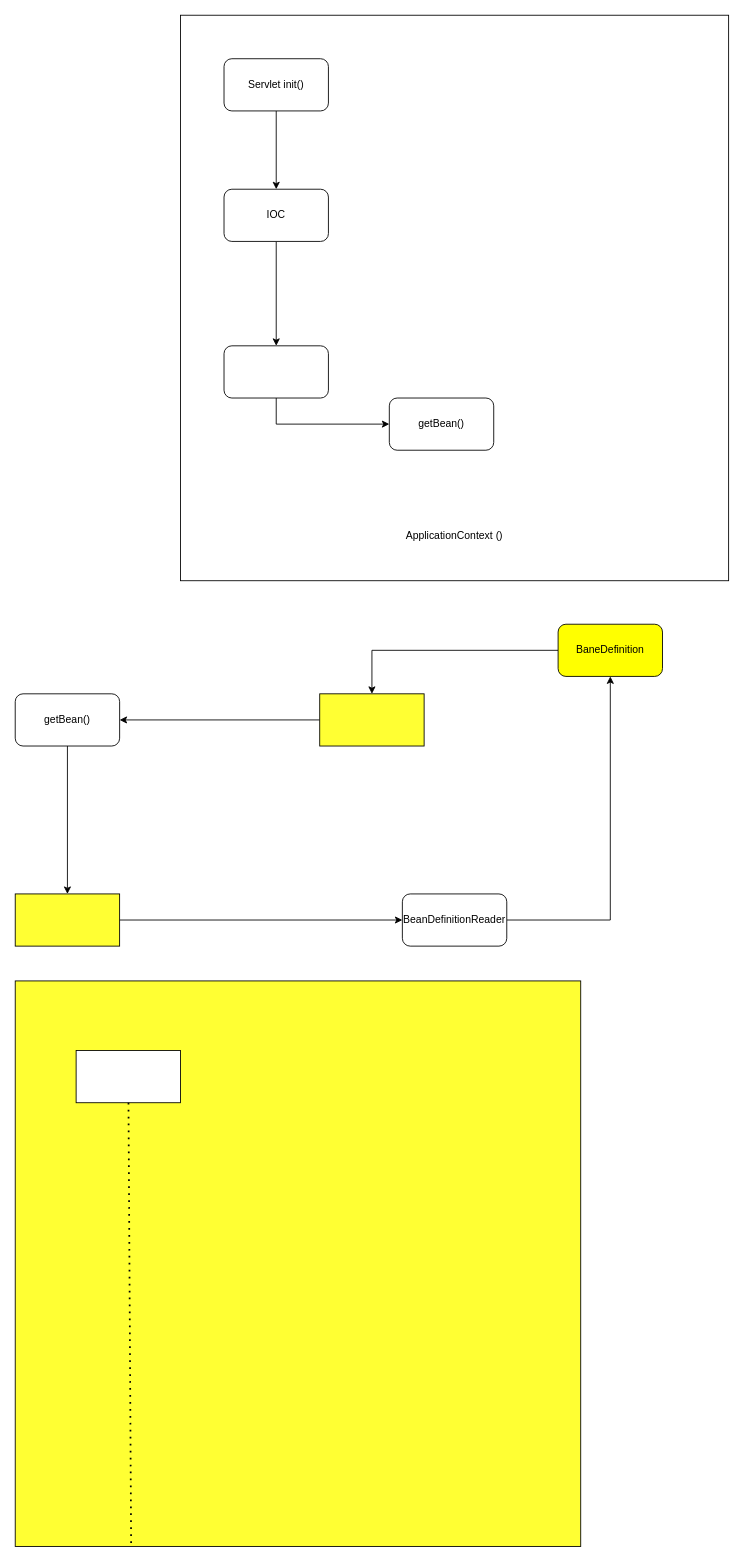
Some shapes in this 744 by 1564 pixel diagram are drawn without their labels. The centre of each missing label's shape, as x and y in pixels:
"ApplicationContext" belongs at pixel 67 919.
"Beans 默认是单例的、并且是延迟加载的" belongs at pixel 128 1076.
"BeanWrapper" belongs at pixel 371 719.
"DI" belongs at pixel 275 371.
